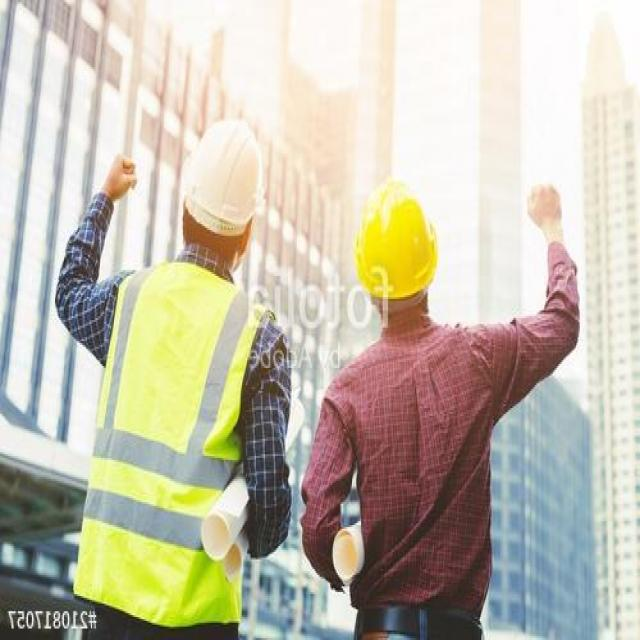Reflective-Jacket: (66, 266, 278, 628)
Safety-Helmet: (344, 170, 450, 312), (173, 108, 271, 242)
